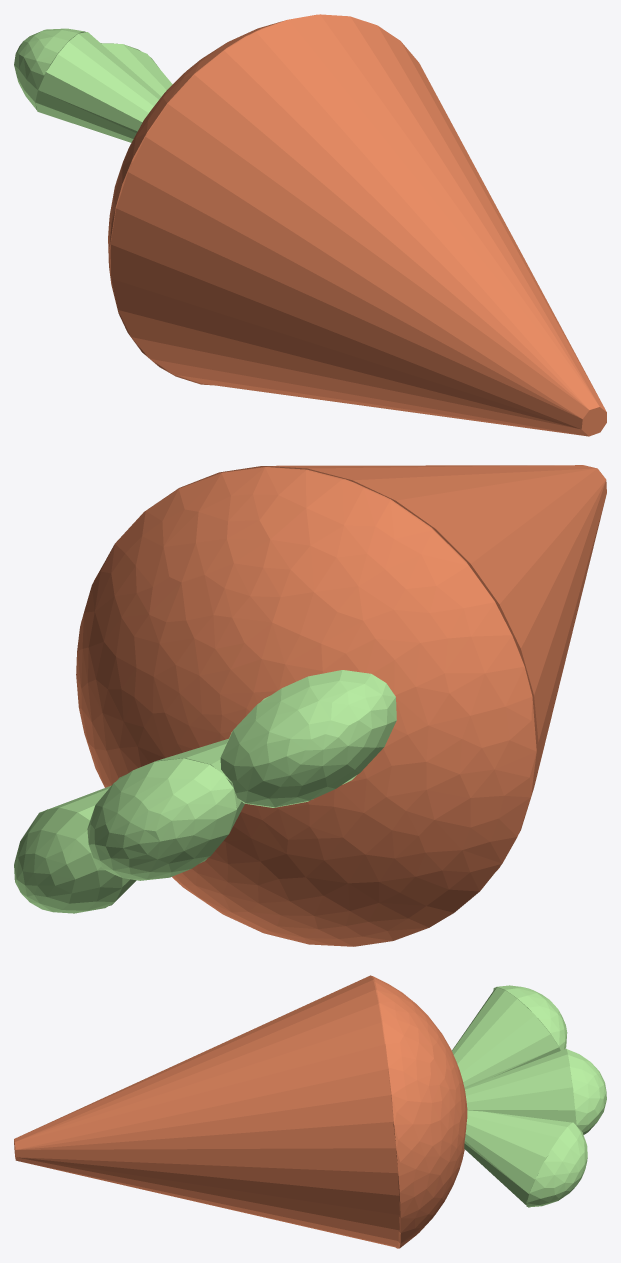
The model's file is food_1_carrot.fbx.
3 views of the same model, one above another, from view 1: azimuth 30°, elevation 25°; view 2: azimuth 150°, elevation 25°; view 3: azimuth 270°, elevation 25° (orthographic). The views are drawn at different scales.
Parts seen in each view (by area): view 1: food_carrot; view 2: food_carrot; view 3: food_carrot.
Part boxes in pixels (x1,y1,x2,y2): food_carrot: (14, 14, 606, 436); food_carrot: (14, 465, 606, 946); food_carrot: (14, 975, 606, 1248).
Size of the model in its own units: 30.48 by 30.65 by 66.06.
